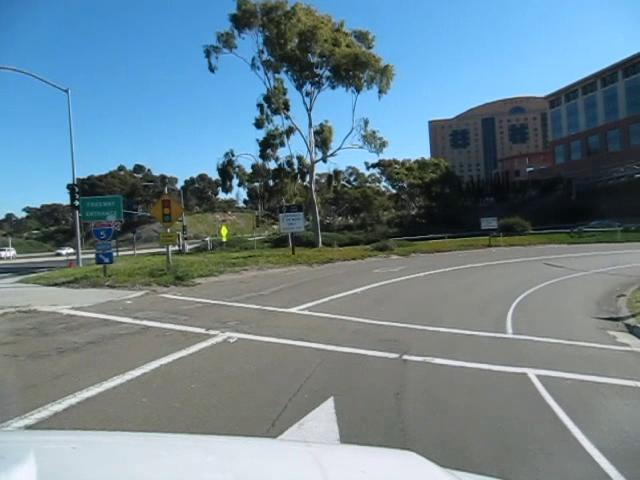signalAhead: (148, 191, 185, 230)
